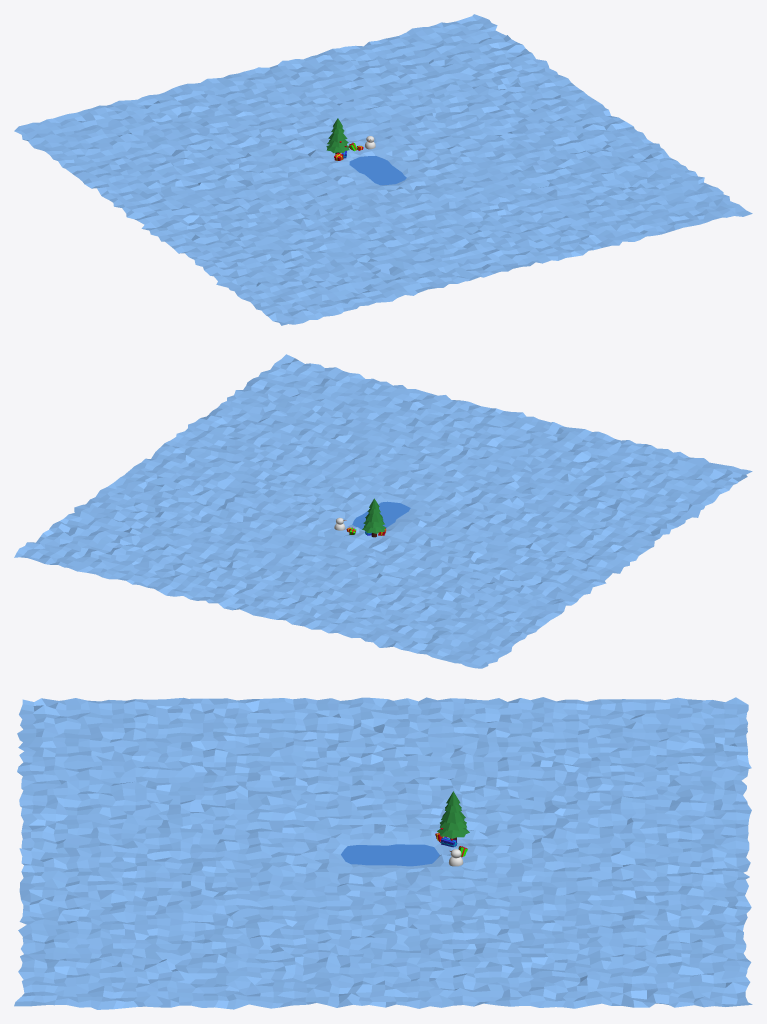
The model's file is Winther_level.fbx.
3 renders of one model, top to bottom at view 1: azimuth 30°, elevation 25°; view 2: azimuth 150°, elevation 25°; view 3: azimuth 270°, elevation 25°, orthographic. The views are drawn at different scales.
Visible parts, largest first — view 1: Plane.010; view 2: Plane.010; view 3: Plane.010, Cylinder.010.
Boxes of the visible parts, x1,y1,x2,y2 form: Plane.010: (14,14,752,325); Plane.010: (14,354,752,668); Plane.010: (14,697,752,1009); Cylinder.010: (437,791,469,842).
Bounding box in the file's own units: 6105 × 516 × 6109.
